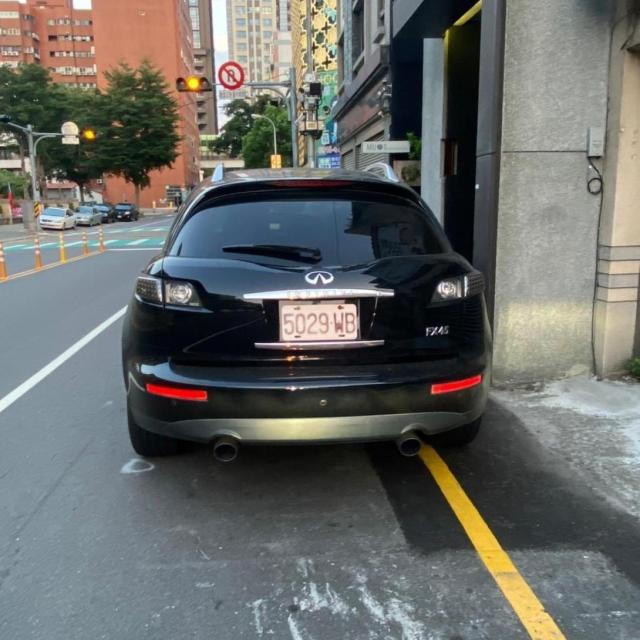W: (271, 290, 368, 346)
